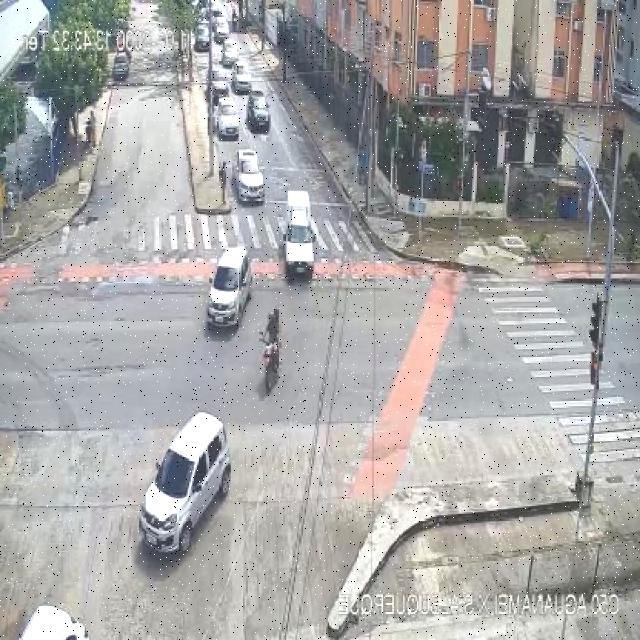Car: (136, 408, 234, 562), (206, 246, 253, 326), (282, 192, 316, 276), (12, 605, 91, 639), (234, 149, 266, 203), (246, 92, 271, 132), (216, 100, 241, 138), (232, 62, 252, 93), (209, 72, 231, 100), (112, 52, 130, 80), (221, 41, 240, 67), (212, 15, 230, 42), (194, 22, 210, 51)
Cycle: (258, 305, 283, 391)
